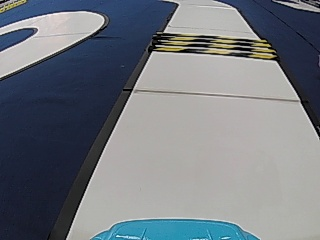bump: (149, 28, 279, 64)
